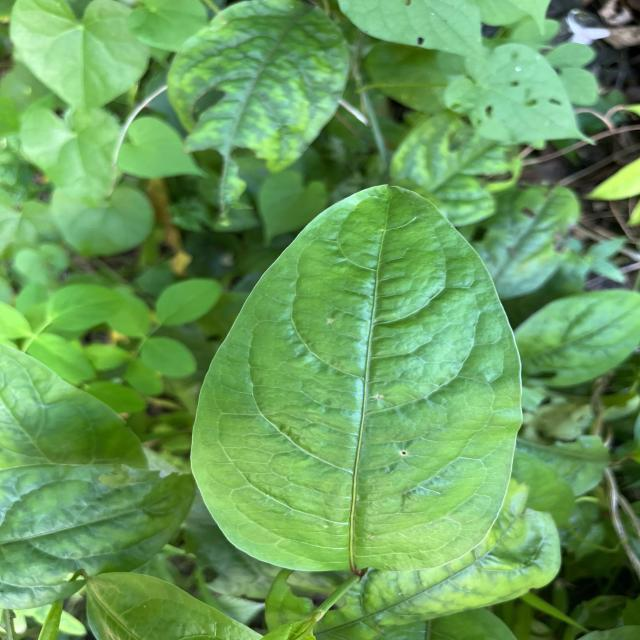Plumbago indica: (184, 178, 526, 579)
